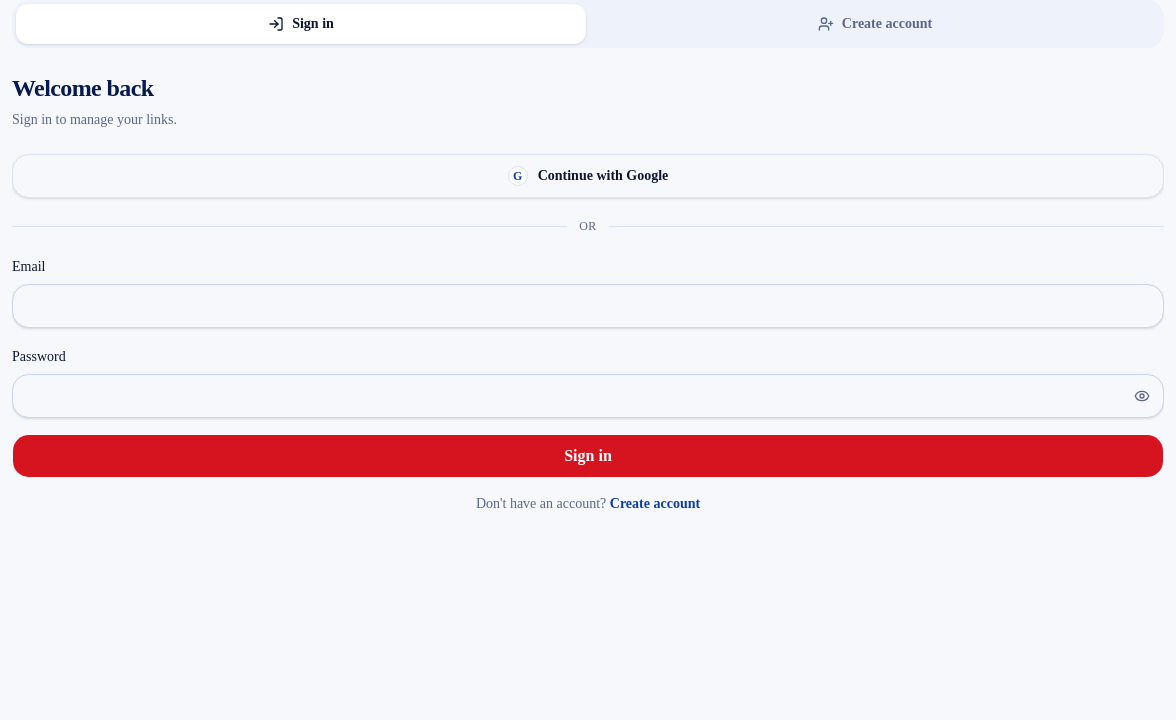
Test: LoginForm › validates the registration fields inline
Click the tab "Create account" at {"x": 875, "y": 24}, box [590, 4, 1160, 44]
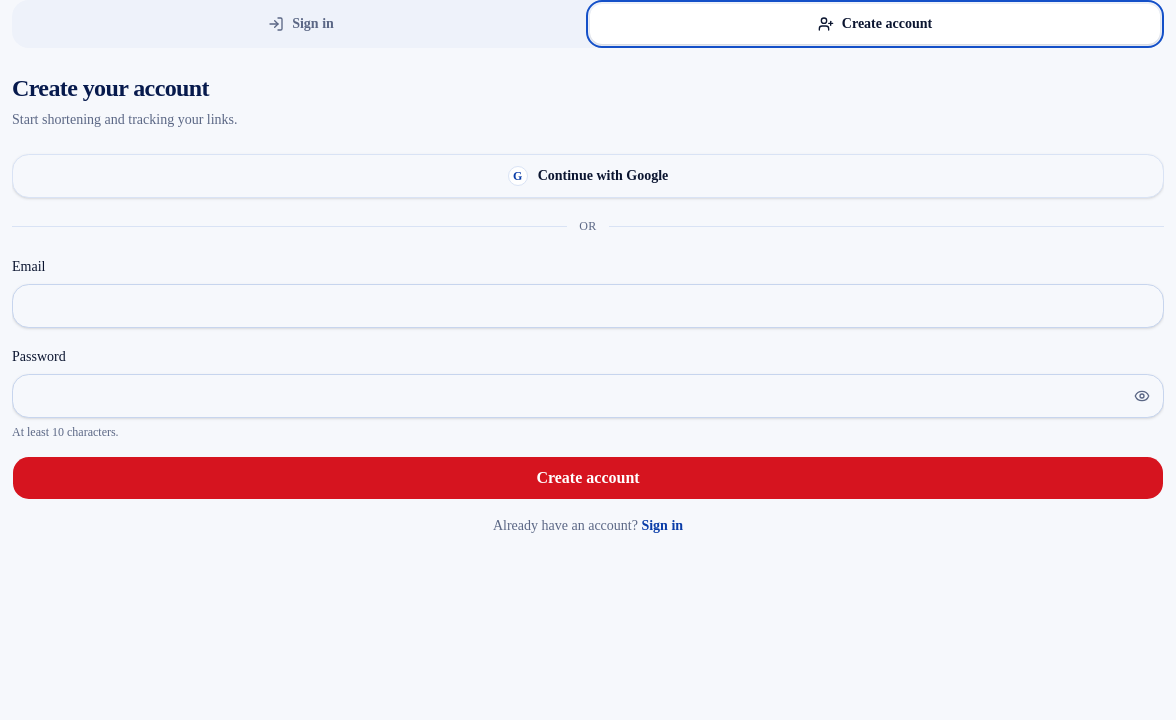
Type "not-an-email" into the field labelled "Email" at {"x": 588, "y": 306}, box [12, 284, 1164, 328]
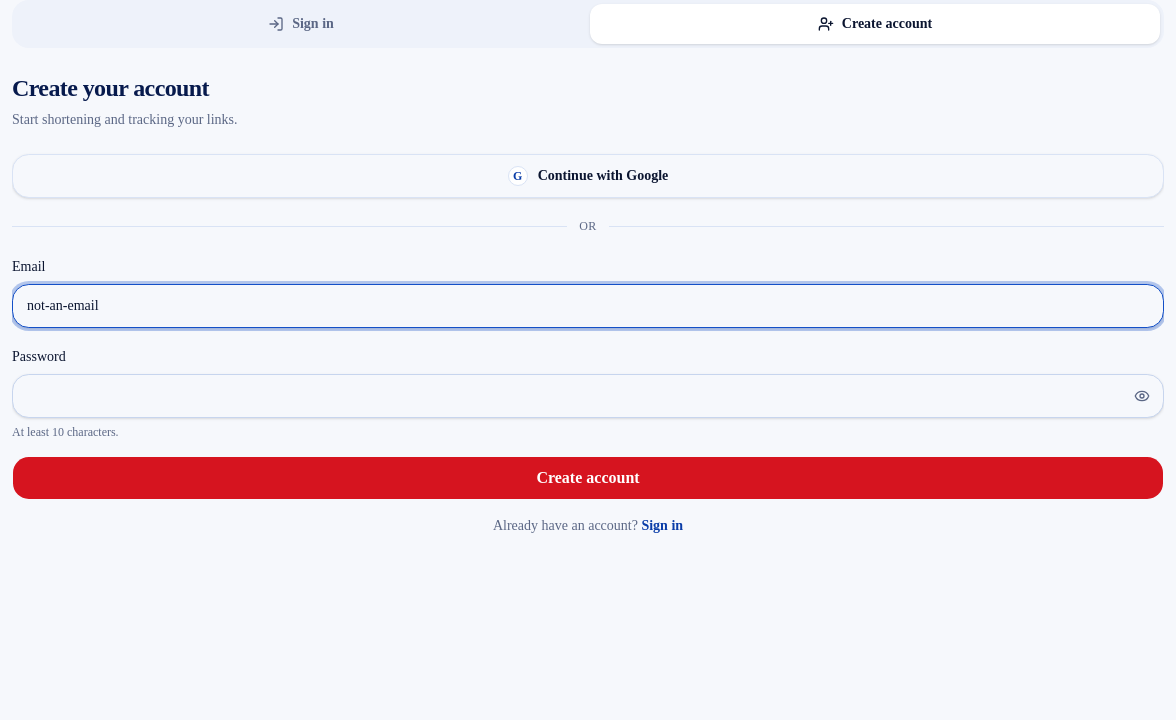
Type "short" into the password field labelled "Password" at {"x": 588, "y": 396}, box [12, 374, 1164, 418]
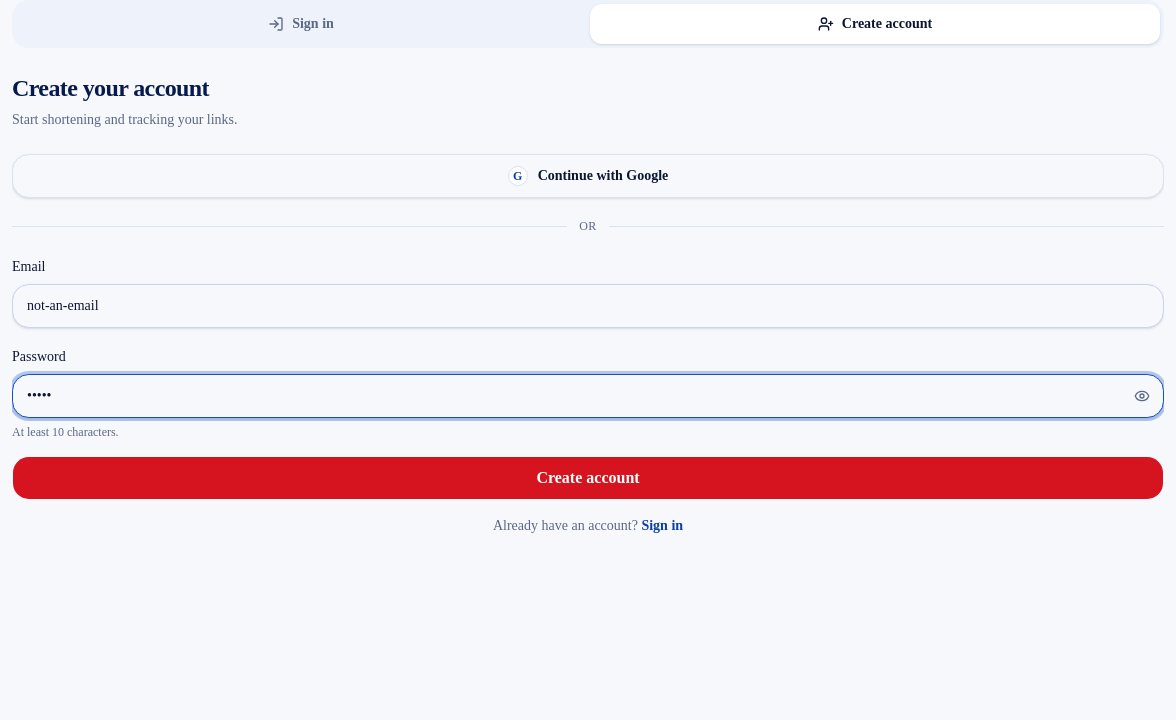
Click the button "Create account" at {"x": 588, "y": 478}, box [12, 456, 1164, 500]
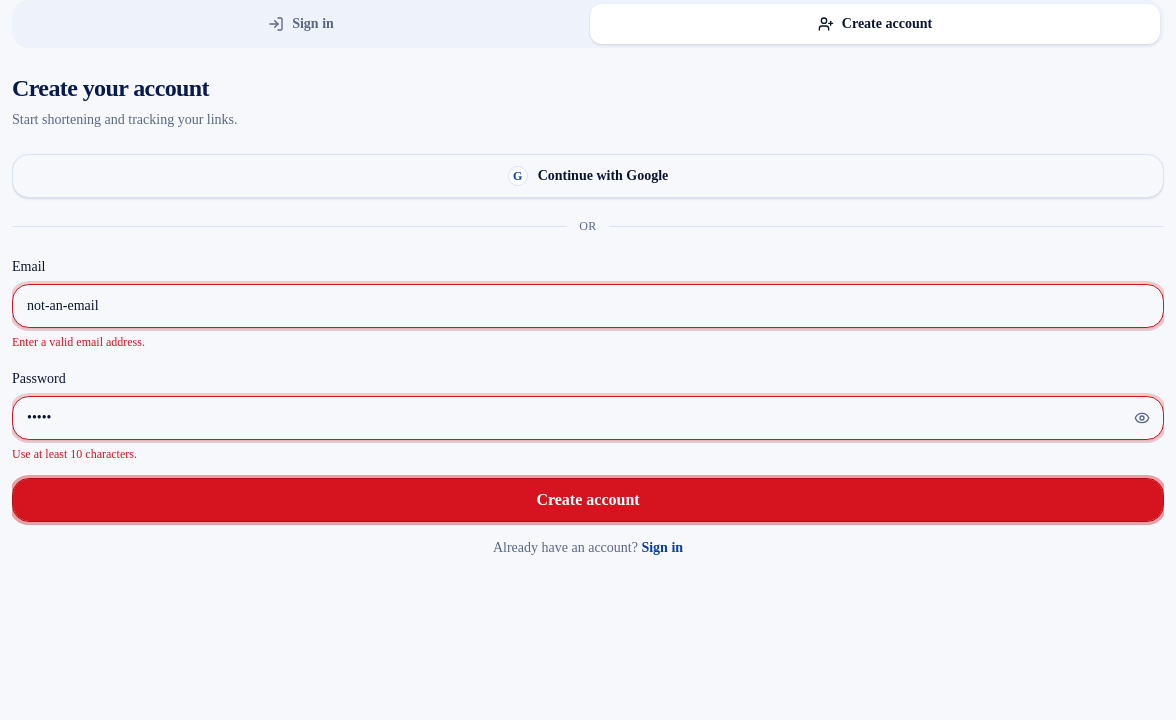
Expected: the text "Enter a valid email address." is shown, [12, 335, 145, 349]
Expected: the text "Use at least 10 characters." is shown, [12, 447, 137, 461]
